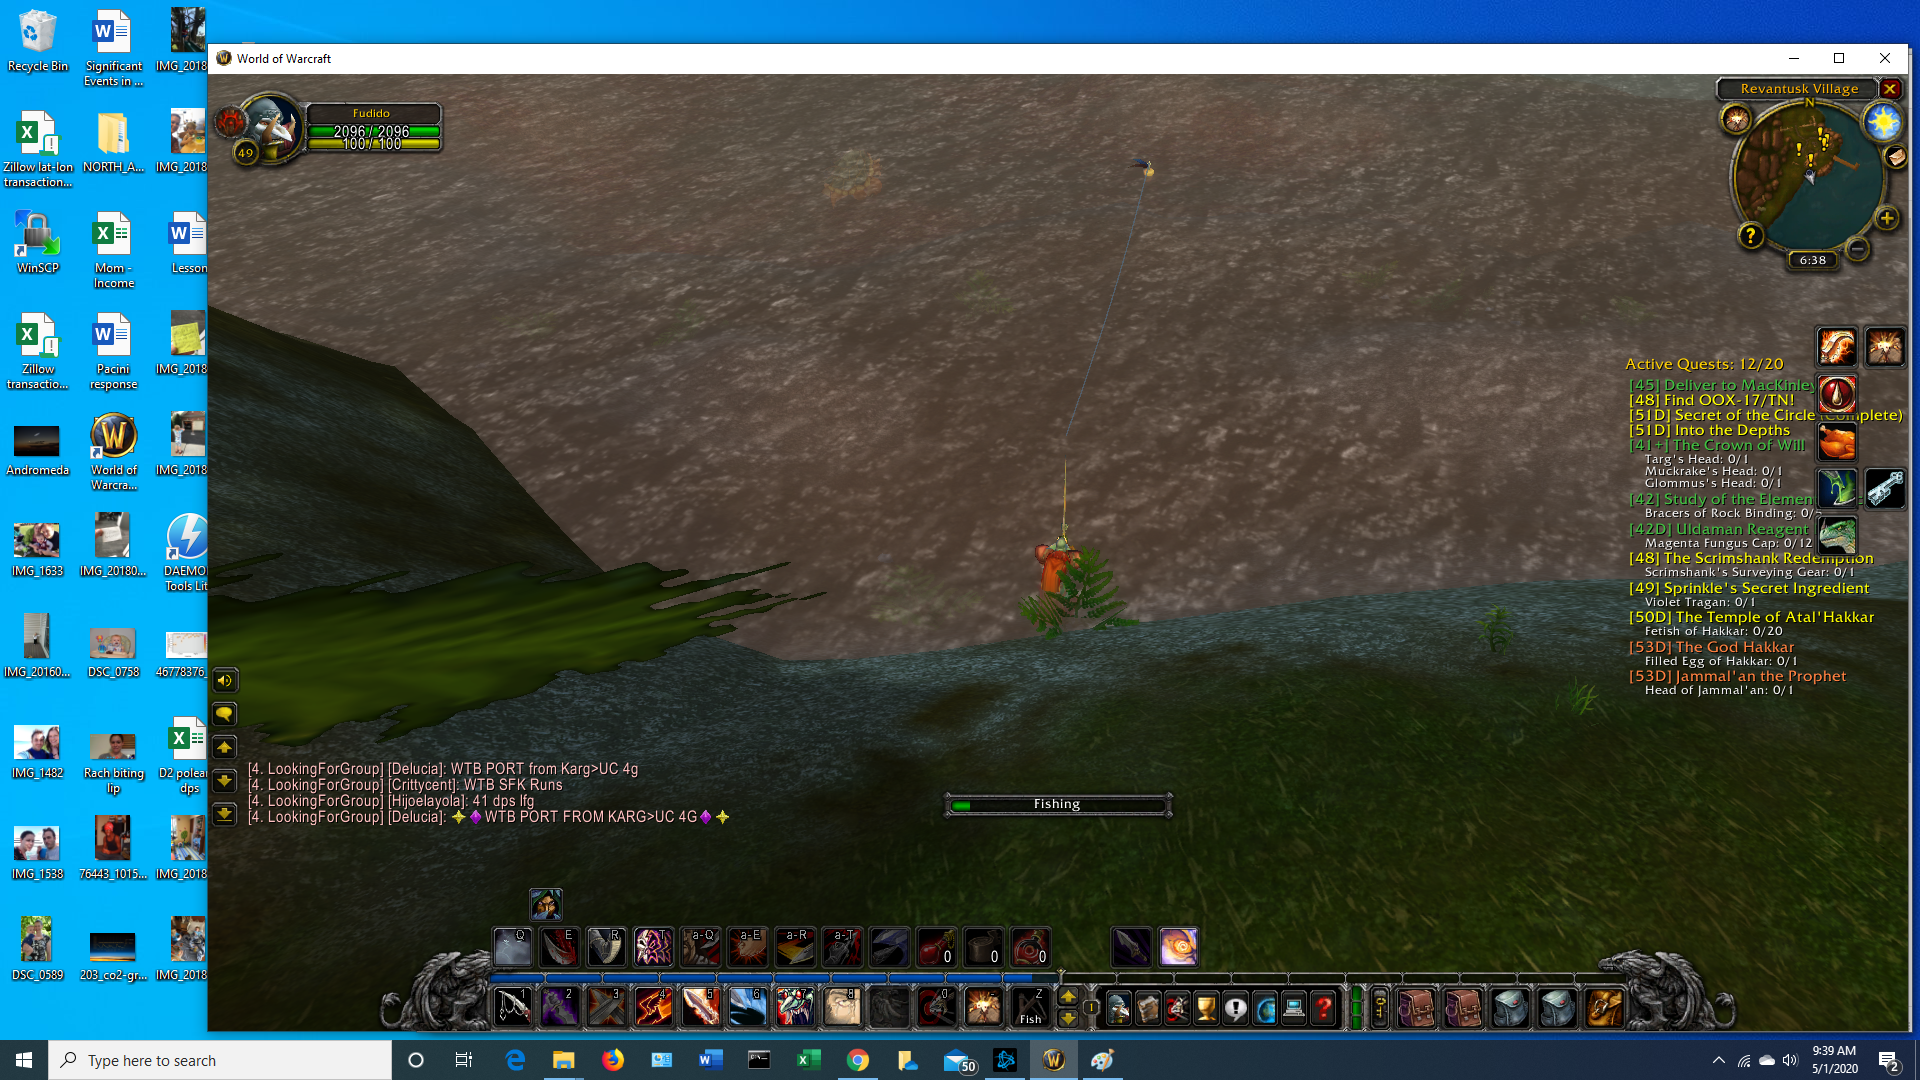bobble: (1130, 153, 1160, 179)
